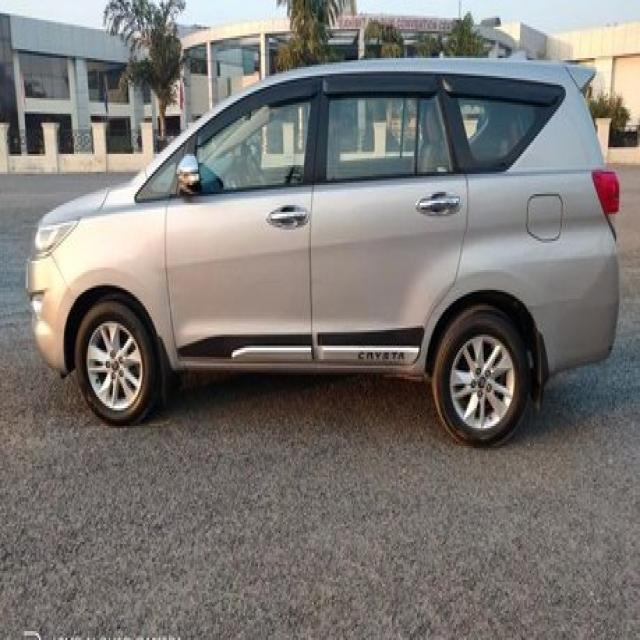light_vehicle: (25, 59, 622, 449)
